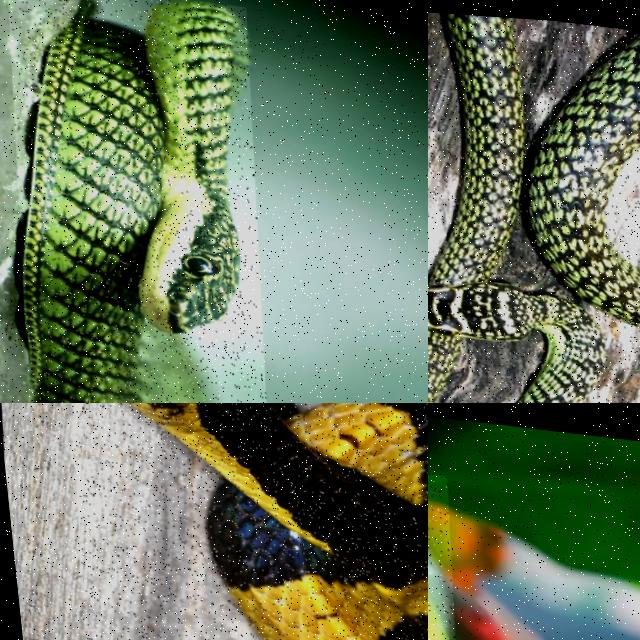Bungarus fasciatus: (132, 403, 427, 639)
Chrysopelea ornata: (22, 0, 248, 402), (428, 13, 603, 402)
Trimeresurus macrops: (428, 598, 447, 639)
snake: (22, 0, 248, 402), (132, 403, 427, 639), (428, 13, 603, 402), (428, 598, 447, 639)
